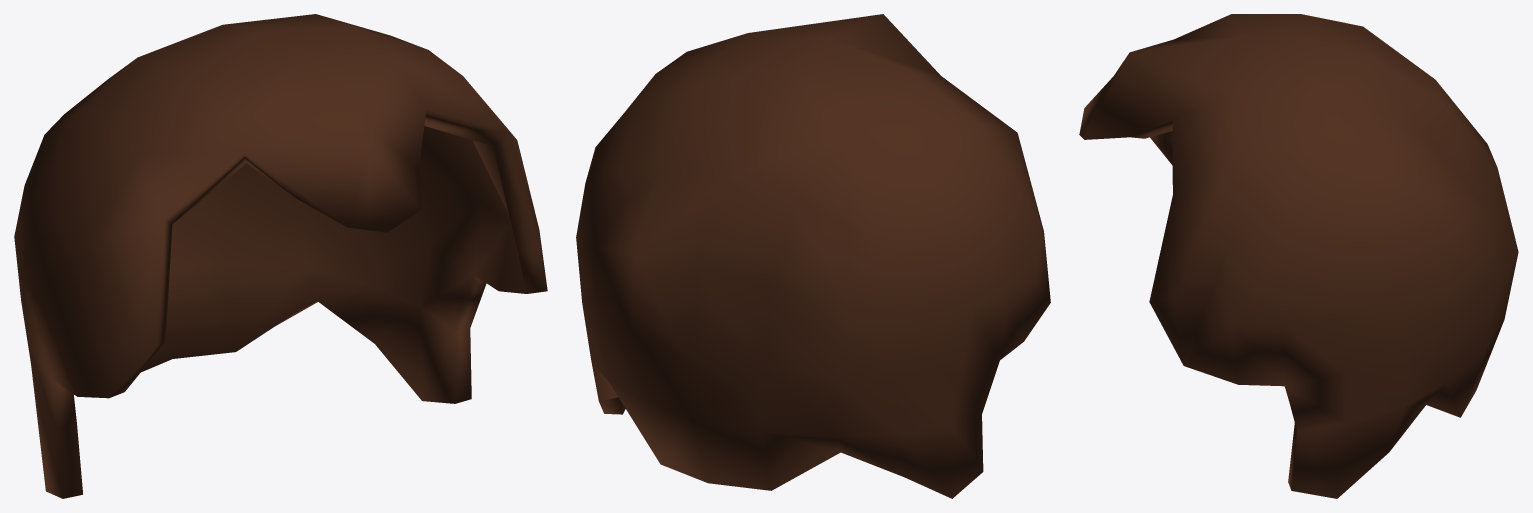
File: aa-hair-short-resceding.glb
The picture shows the model from 3 angles, left to right: view 1: azimuth 30°, elevation 25°; view 2: azimuth 150°, elevation 25°; view 3: azimuth 270°, elevation 25°; orthographic projection. The views are drawn at different scales.
Parts seen in each view (by area): view 1: hairShortReceding; view 2: hairShortReceding; view 3: hairShortReceding.
Boxes of the visible parts, left/top/right/bottom form: hairShortReceding: left=14, top=14, right=547, bottom=498; hairShortReceding: left=576, top=14, right=1050, bottom=498; hairShortReceding: left=1079, top=14, right=1518, bottom=498.
Size of the model in its own units: 0.4939 by 0.4418 by 0.4665.
1 material, 1 textured.
